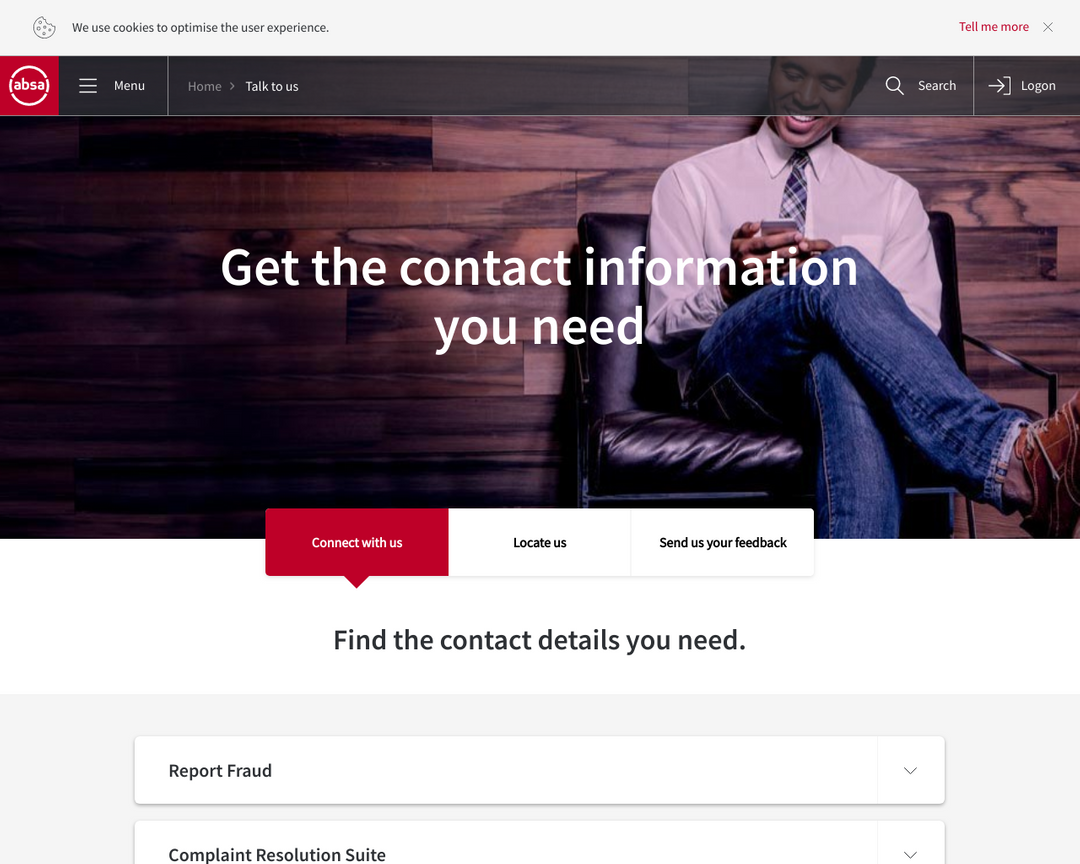ABSA: (6, 65, 52, 105)
